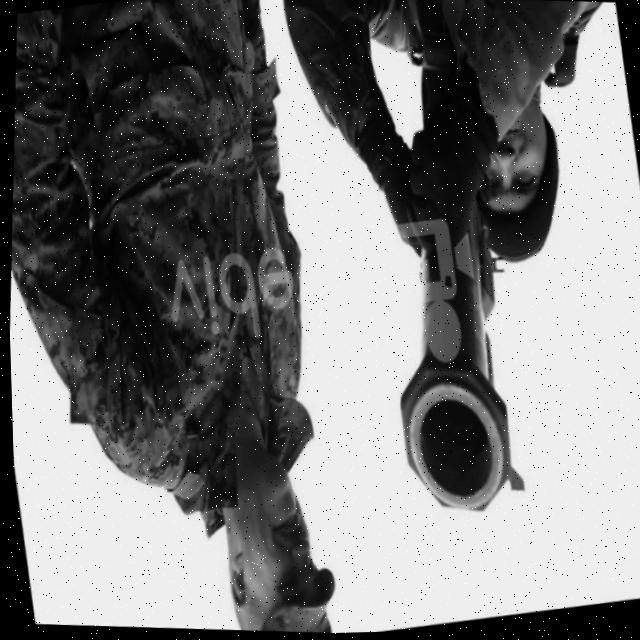rocket: (357, 206, 534, 536)
